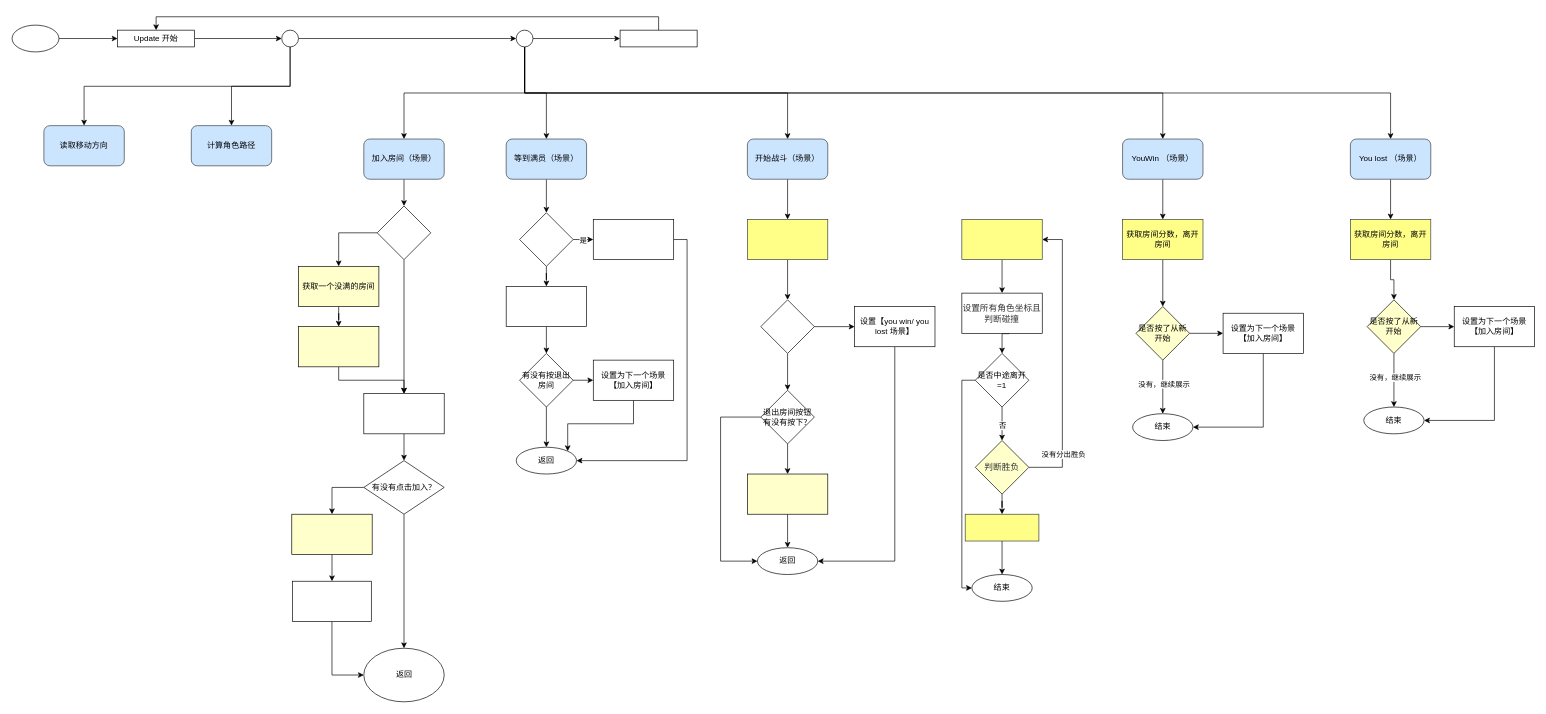
Image size: 1546x714. Some labels were removed from this diagram. Here are the shapes that lost their labels. From the top down, the box of each, then its label:
(11, 24, 59, 52): 开始
(619, 29, 697, 47): Update 结束
(377, 205, 431, 260): 房间有无过期？
(519, 212, 573, 266): 房间已经满？
(593, 219, 674, 260): 设置为下一个场景【开始战斗】
(747, 219, 828, 260): 发送xy坐标给服务器
(961, 219, 1042, 260): 得到所有角色坐标
(506, 286, 587, 327): 显示【退出房间】按钮
(760, 299, 814, 353): 读取胜负标识 胜利与否？
(298, 326, 379, 367): 获取房间用户名称
(363, 393, 444, 434): 显示【加入房间】 按钮
(747, 473, 828, 514): 发送退出房间信息 中途离开=1
(291, 514, 372, 554): 加入房间
(965, 514, 1039, 541): 设置胜负标识
(292, 581, 371, 621): 设置为【等到满员】下一个场景
